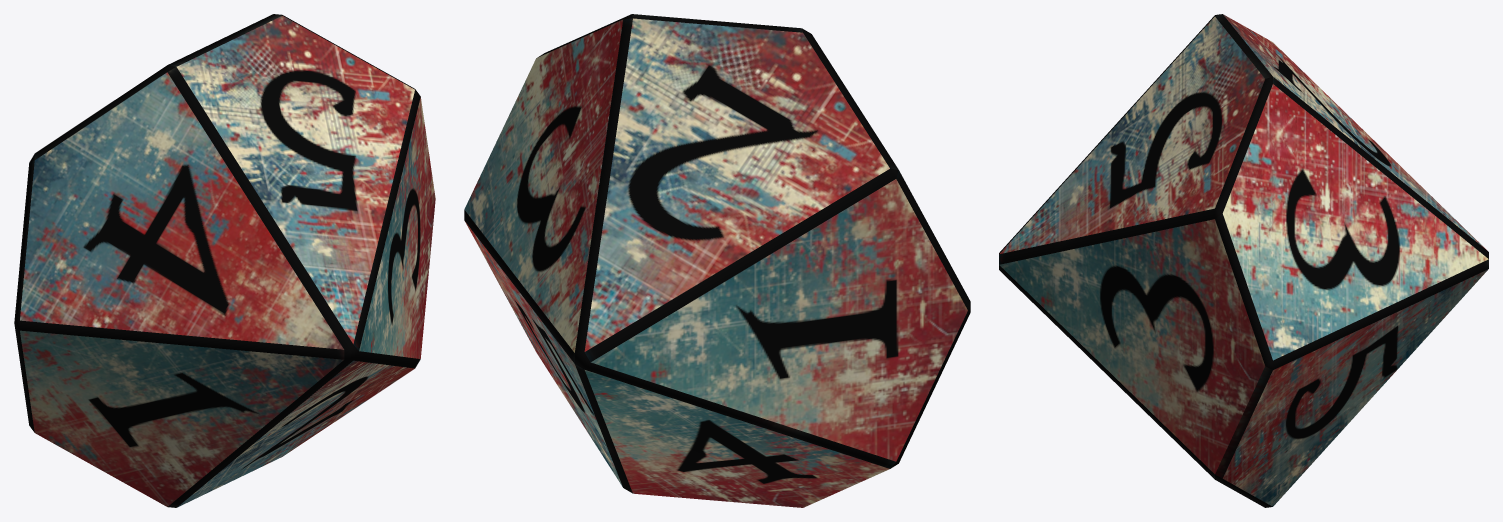
File: chanced5.glb
The picture shows the model from 3 angles, left to right: view 1: azimuth 30°, elevation 25°; view 2: azimuth 150°, elevation 25°; view 3: azimuth 270°, elevation 25°; orthographic projection. The views are drawn at different scales.
Visible parts, largest first — view 1: Mesh_0; view 2: Mesh_0; view 3: Mesh_0.
Boxes of the visible parts, x1,y1,x2,y2 form: Mesh_0: [14, 14, 435, 507]; Mesh_0: [464, 14, 970, 507]; Mesh_0: [999, 14, 1488, 507].
Size of the model in its own units: 175 by 166 by 172.
1 material, 1 textured.
